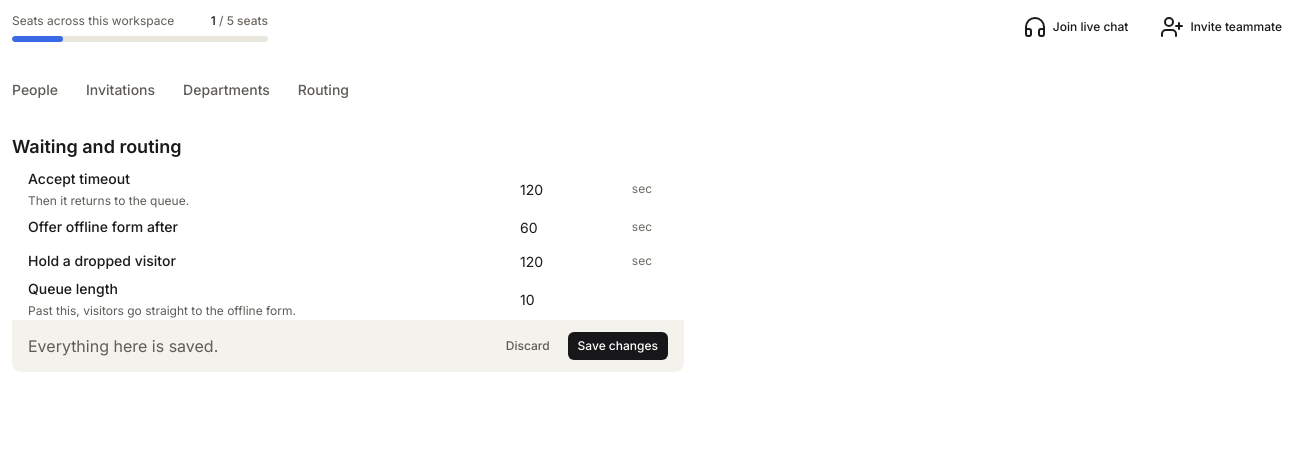
Test: MembersPage — routing › refuses a grace period the API would refuse, at the field
Step 1. Replace the text in the field labelled "Hold a dropped visitor" with "4" → point(588, 261), box [508, 244, 668, 278]
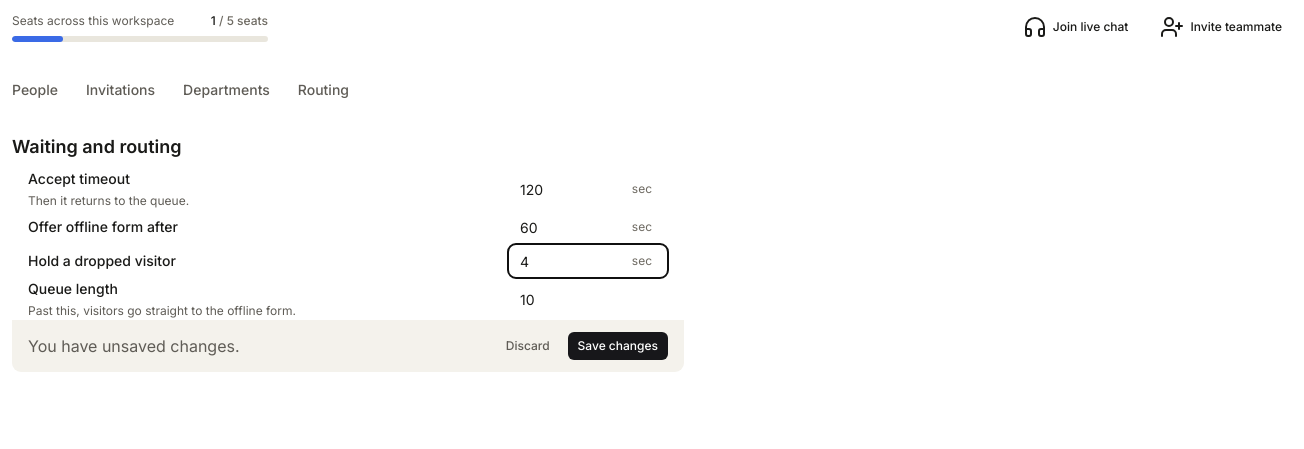
Step 2. Click the button "Save changes" → point(618, 346), box [568, 332, 668, 360]
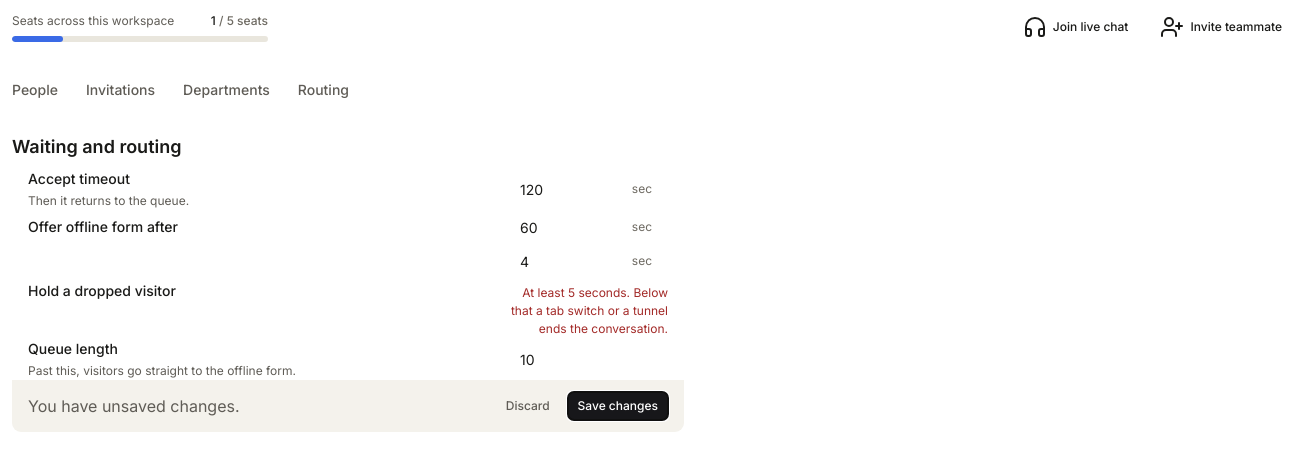
Now the text "At least 5 seconds. Below that a tab switch or a tunnel ends the conversation." is shown, box [508, 284, 668, 338]
